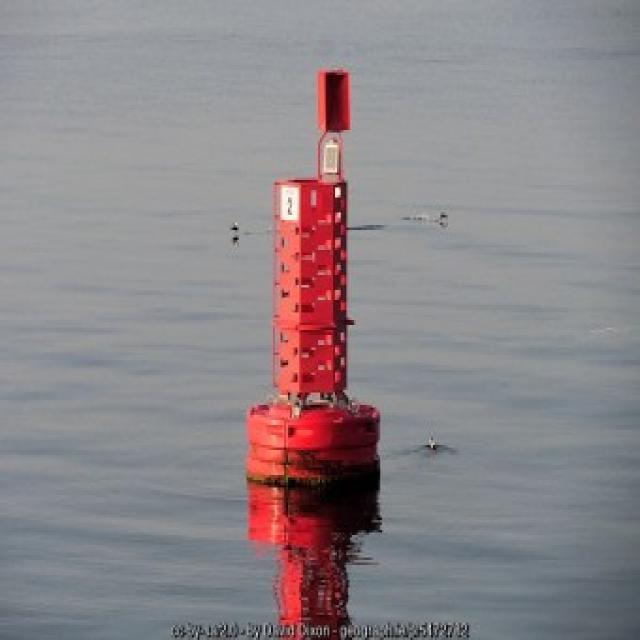buoy: (231, 61, 390, 506)
